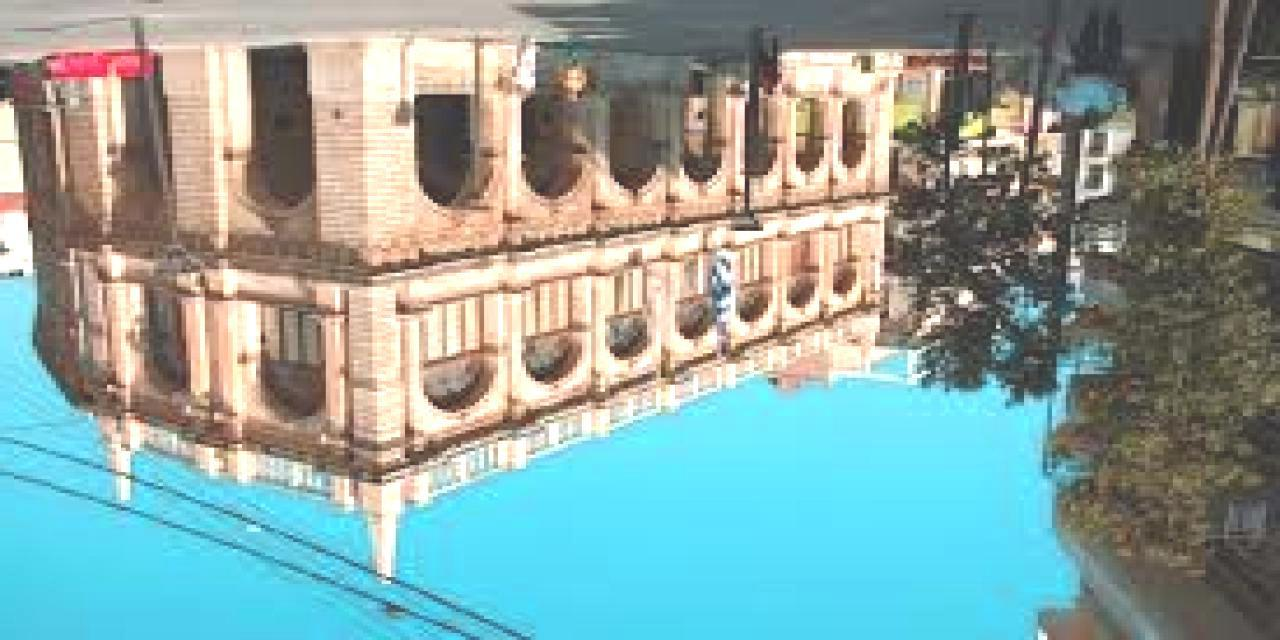Loggia: (4, 50, 888, 583)
